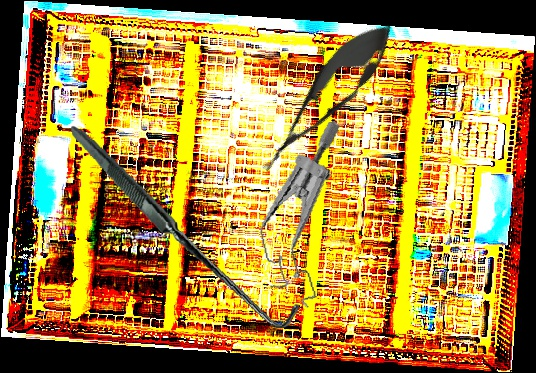Hook Surgical: (70, 103, 302, 349)
Micro Scissor: (246, 8, 406, 186)
Speculum: (236, 120, 377, 315)
